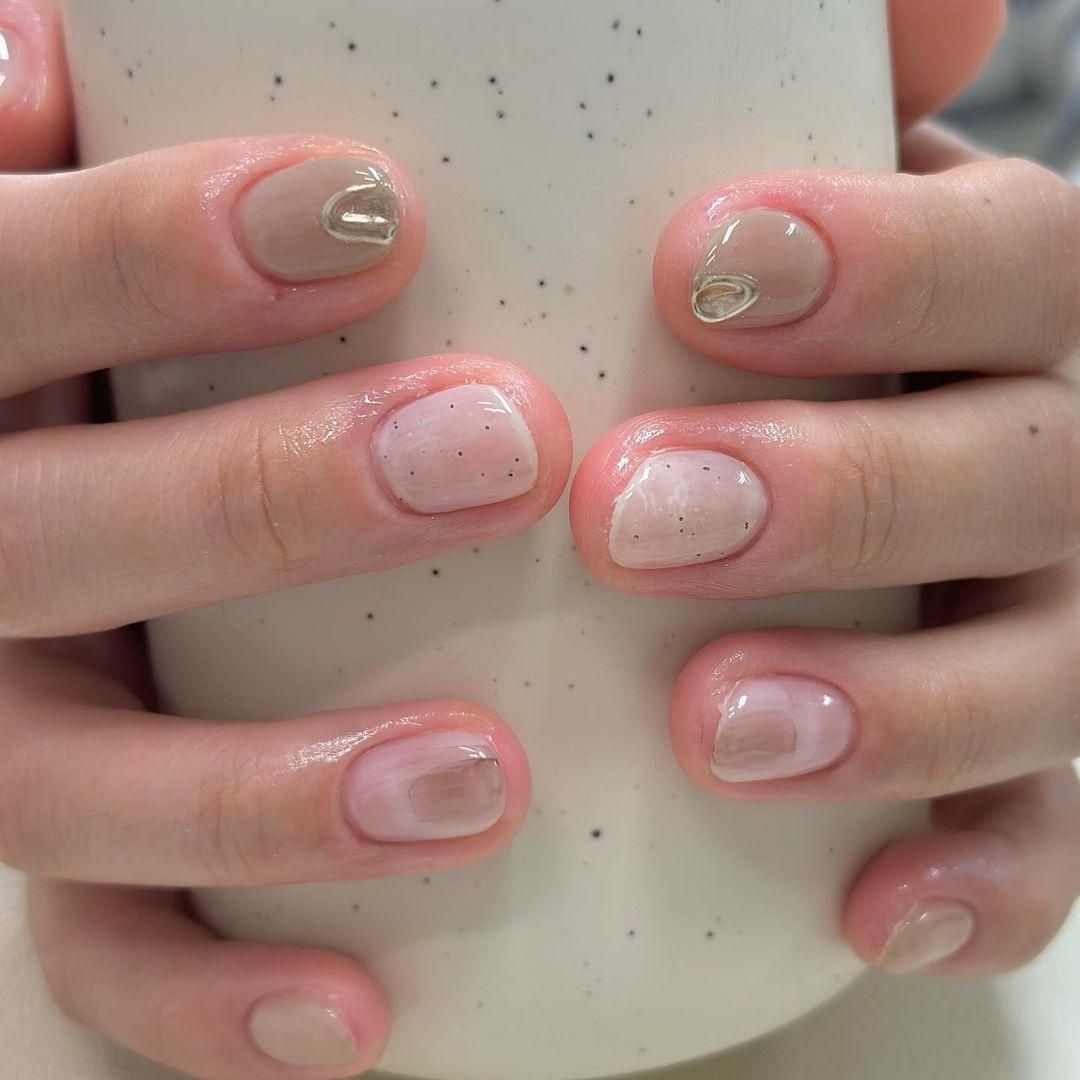nail: (229, 151, 402, 285), (369, 380, 538, 516), (606, 445, 771, 571), (338, 726, 506, 844), (687, 203, 836, 330), (707, 671, 859, 784), (245, 985, 359, 1070), (876, 896, 976, 974)
